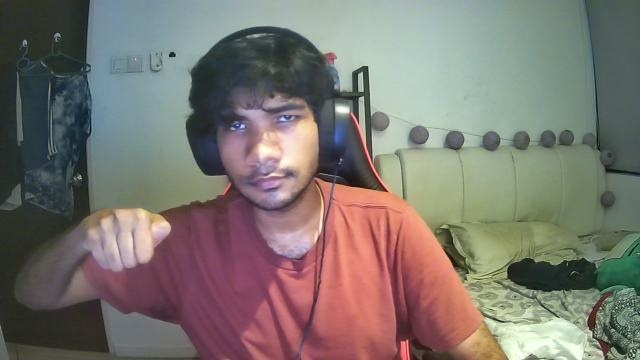Yes: (74, 199, 177, 280)
